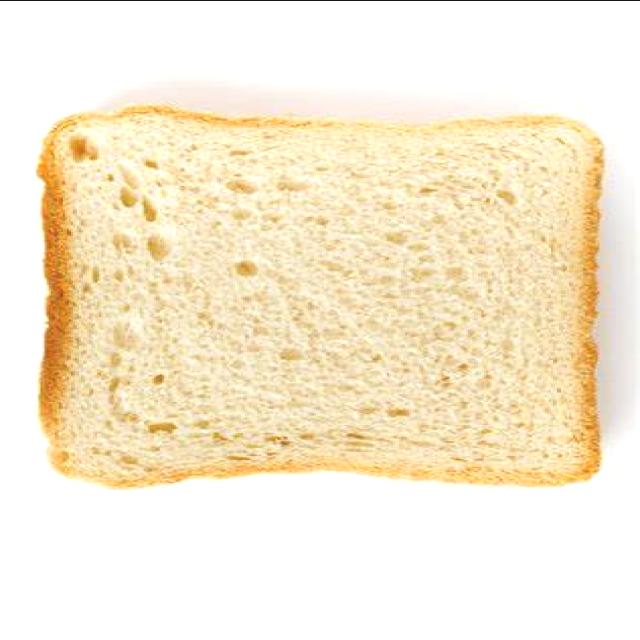roti tawar: (36, 100, 608, 490)
